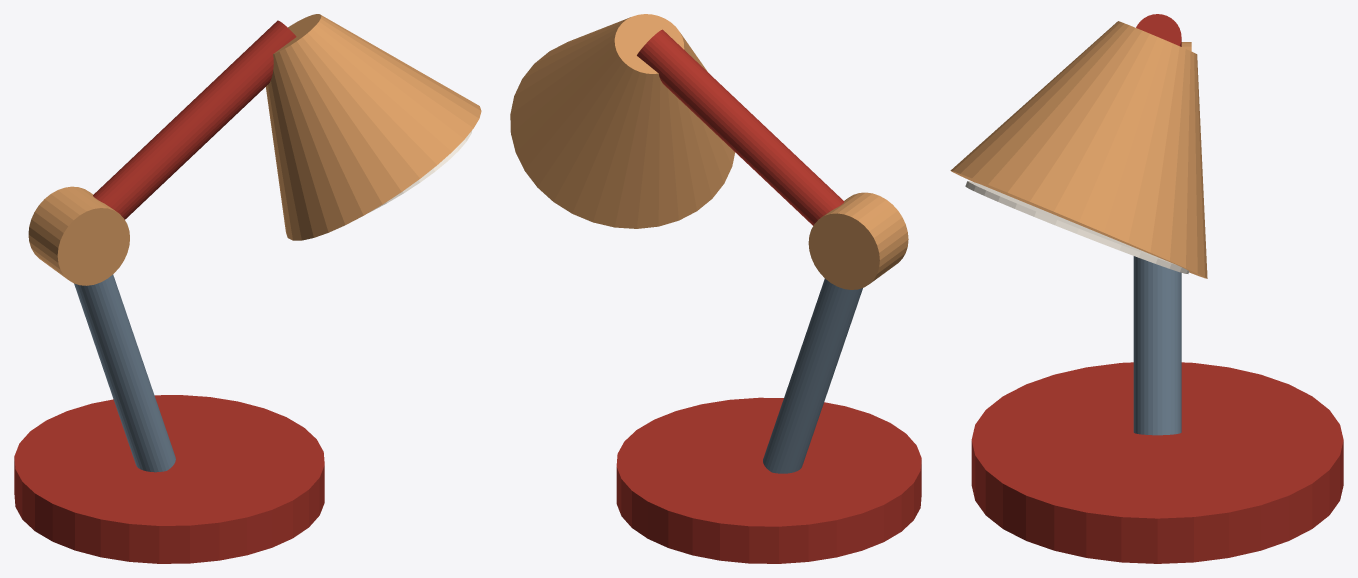
Rendered from lamp.glb.
3 renders of one model, left to right at view 1: azimuth 30°, elevation 25°; view 2: azimuth 150°, elevation 25°; view 3: azimuth 270°, elevation 25°, orthographic. The views are drawn at different scales.
Visible parts, largest first — view 1: base, shade, upper arm, lower arm, joint; view 2: base, shade, upper arm, lower arm, joint; view 3: base, shade, lower arm, diffuser, upper arm.
Part boxes in pixels (bbox=[...]): base: bbox=[14, 395, 324, 563]; shade: bbox=[266, 14, 481, 240]; upper arm: bbox=[93, 20, 296, 219]; lower arm: bbox=[74, 274, 175, 472]; joint: bbox=[28, 186, 129, 285]; base: bbox=[616, 397, 921, 563]; shade: bbox=[510, 14, 735, 228]; upper arm: bbox=[637, 29, 844, 225]; lower arm: bbox=[763, 278, 862, 473]; joint: bbox=[808, 192, 908, 289]; base: bbox=[971, 362, 1343, 563]; shade: bbox=[950, 21, 1207, 278]; lower arm: bbox=[1133, 256, 1181, 435]; diffuser: bbox=[965, 181, 1189, 273]; upper arm: bbox=[1136, 14, 1181, 46].
Size of the model in its own units: 1.58 by 1.67 by 1.1.
